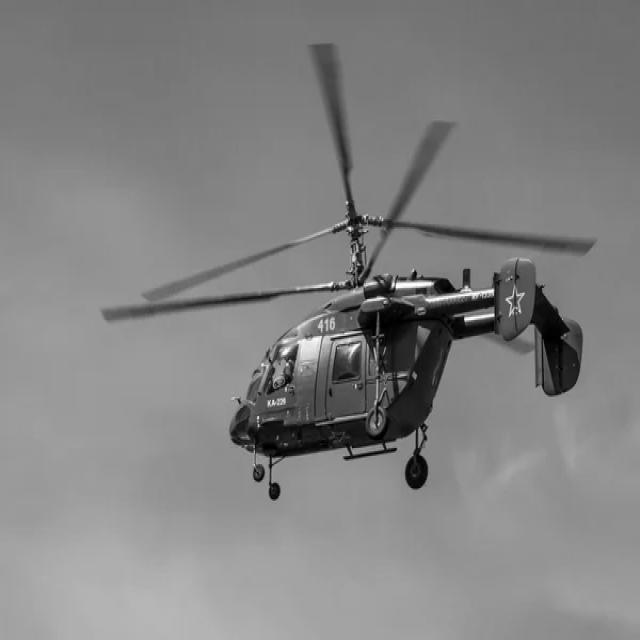Helicopter: (232, 46, 584, 500)
